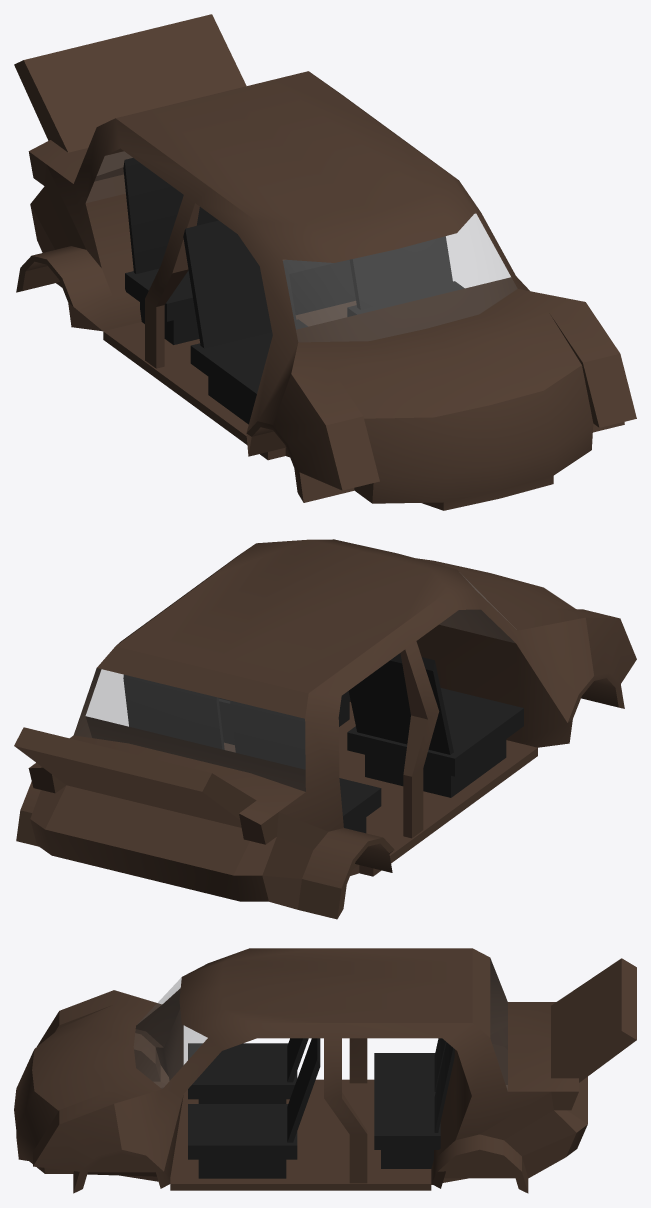
The model's file is Wheel.fbx.
3 views of the same model, one above another, from view 1: azimuth 30°, elevation 25°; view 2: azimuth 150°, elevation 25°; view 3: azimuth 270°, elevation 25° (orthographic). The views are drawn at different scales.
Visible parts, largest first — view 1: Car; view 2: Car; view 3: Car.
Part boxes in pixels (left/top/right/bottom): Car: left=14, top=14, right=636, bottom=510; Car: left=14, top=539, right=636, bottom=919; Car: left=14, top=948, right=636, bottom=1193.
Size of the model in its own units: 246 by 142 by 522.
